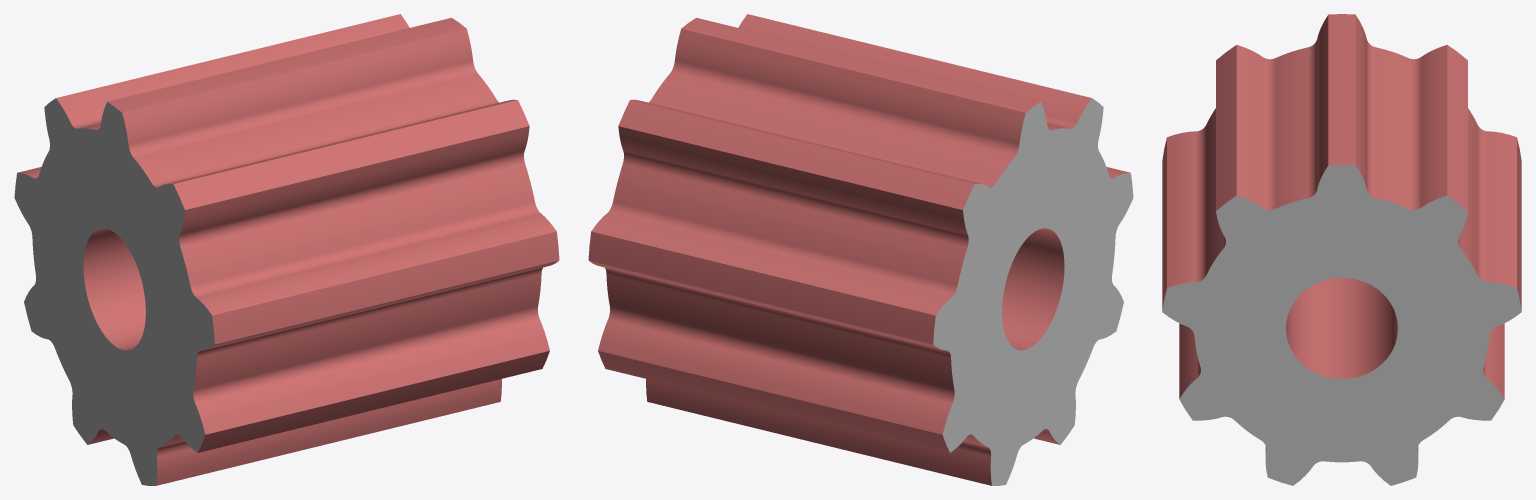
Rendered from hophey_gear.fbx.
3 renders of one model, left to right at view 1: azimuth 30°, elevation 25°; view 2: azimuth 150°, elevation 25°; view 3: azimuth 270°, elevation 25°, orthographic. The views are drawn at different scales.
Visible parts, largest first — view 1: Gear; view 2: Gear; view 3: Gear.
Boxes of the visible parts, x1,y1,x2,y2 form: Gear: (14, 14, 559, 485); Gear: (588, 14, 1133, 485); Gear: (1162, 14, 1521, 485).
Bounding box in the file's own units: 100 × 99.31 × 101.
